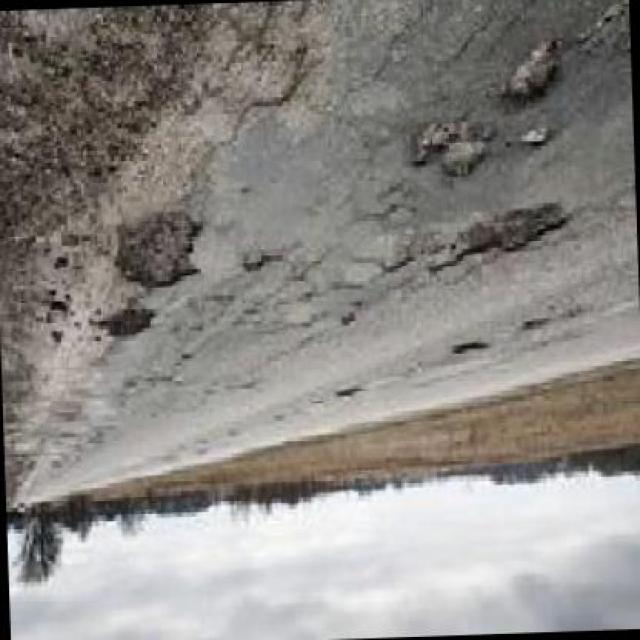pothole1: (429, 204, 573, 282), (109, 210, 202, 293), (412, 118, 494, 182), (497, 36, 566, 110), (92, 307, 158, 345), (516, 128, 552, 150)
